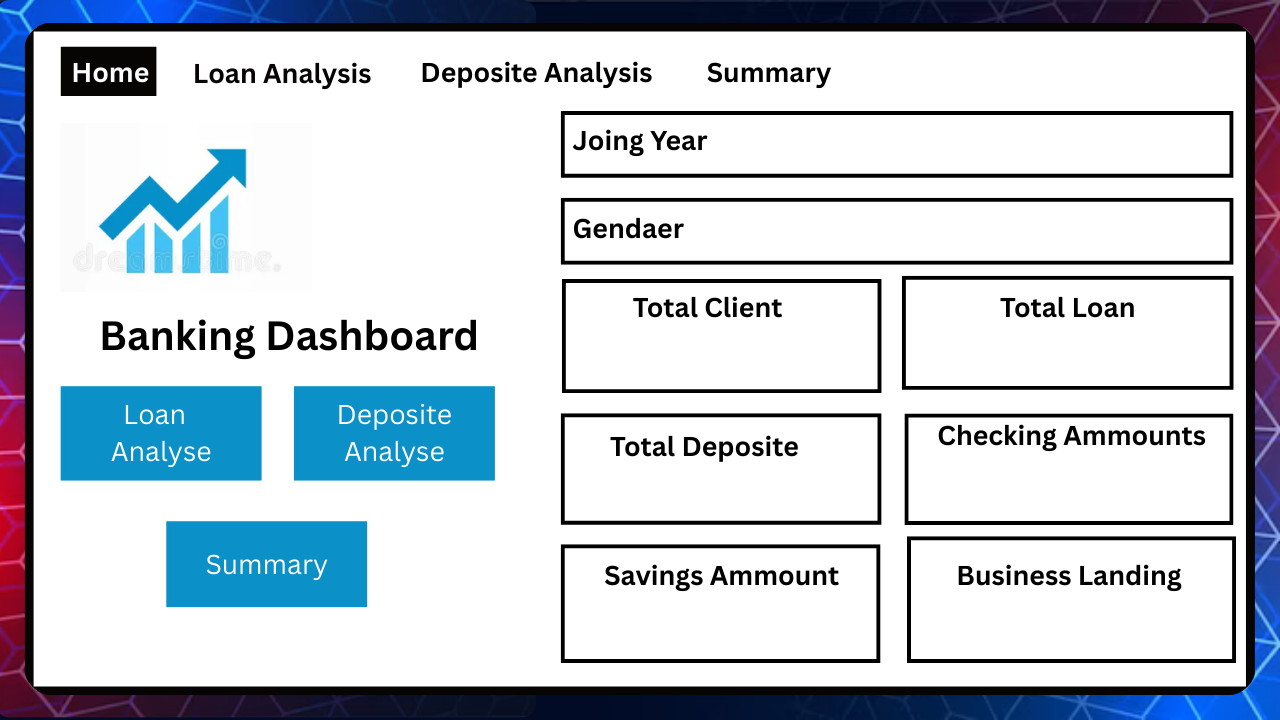

Layout of this report page (visuals, bound fields, positions):
{"tool":"powerbi","page":{"name":"Home","canvas":[1280,720],"ordinal":1},"visuals":[{"type":"card","fields":{"Values":["CountNonNull(banking_case customer.ï»¿Client ID)"]},"box":[619.8,280.5,201.6,58.8],"z":0},{"type":"card","fields":{"Values":["banking_case customer.Total Loan"]},"box":[957.5,280.5,245.2,58.8],"z":1000},{"type":"card","fields":{"Values":["banking_case customer.Total Deposite"]},"box":[598,446.8,245.2,58.8],"z":2000},{"type":"card","fields":{"Values":["Sum(banking_case customer.Checking Accounts)"]},"box":[940.7,446.8,245.2,58.8],"z":3000},{"type":"card","fields":{"Values":["Sum(banking_case customer.Saving Accounts)"]},"box":[598,591.3,245.2,58.8],"z":4000},{"type":"card","fields":{"Values":["Sum(banking_case customer.Business Lending)"]},"box":[940.7,591.3,245.2,58.8],"z":5000},{"type":"slicer","fields":{"Values":["banking_case customer.GenderId"]},"box":[703.8,131,522.4,58.8],"z":6000},{"type":"slicer","fields":{"Values":["banking_case customer.Year of Joined"]},"box":[720.6,40.3,505.6,57.1],"z":7000},{"type":"actionButton","box":[60.5,379.6,201.6,97.4],"z":7001},{"type":"actionButton","box":[292.3,380.2,203,97.9],"z":7002},{"type":"actionButton","box":[161.3,519.8,205.9,83.5],"z":7003}]}

Visuals, with their boxes in screenshot pixels (x1, y1, x2, y2), scaled from the page's 1280x720 canvas onto the 1280x720 screenshot:
card - CountNonNull(banking_case customer.ï»¿Client ID): (620,280,821,339)
card - banking_case customer.Total Loan: (958,280,1203,339)
card - banking_case customer.Total Deposite: (598,447,843,506)
card - Sum(banking_case customer.Checking Accounts): (941,447,1186,506)
card - Sum(banking_case customer.Saving Accounts): (598,591,843,650)
card - Sum(banking_case customer.Business Lending): (941,591,1186,650)
slicer - banking_case customer.GenderId: (704,131,1226,190)
slicer - banking_case customer.Year of Joined: (721,40,1226,97)
actionButton: (60,380,262,477)
actionButton: (292,380,495,478)
actionButton: (161,520,367,603)
